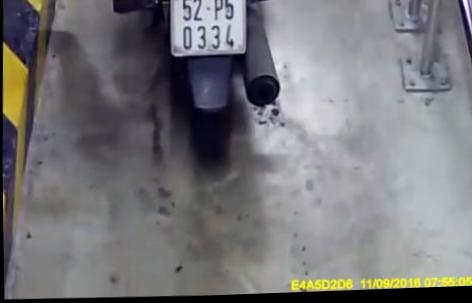LP: (168, 0, 248, 59)
